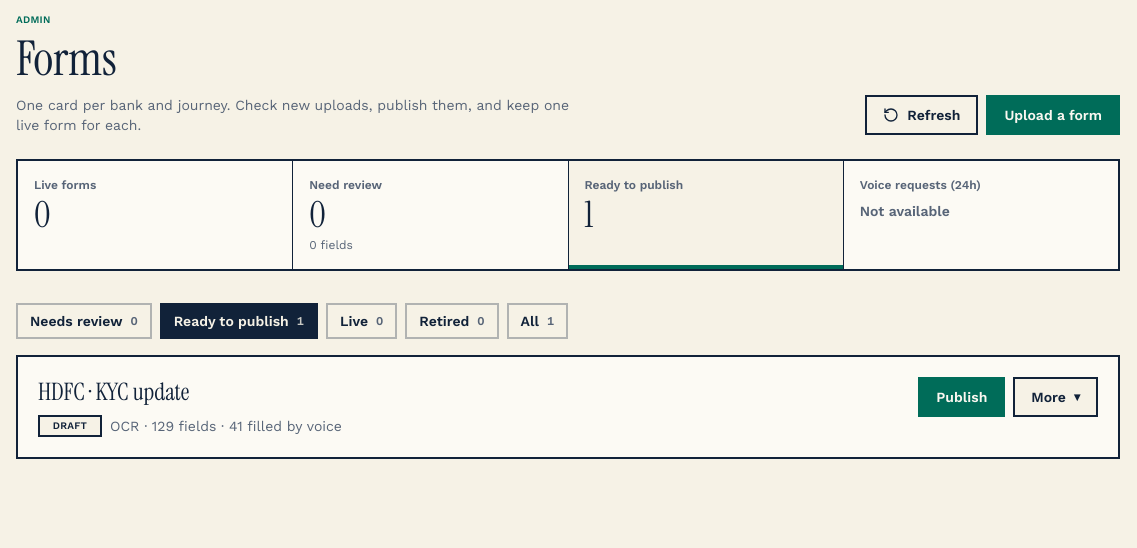
Test: ConsolePage › publishes a draft with no live form straight away
The width and height of the screenshot is (1137, 548).
Click the button "Publish".
click(962, 397)  # box x1=918 y1=377 x2=1005 y2=417
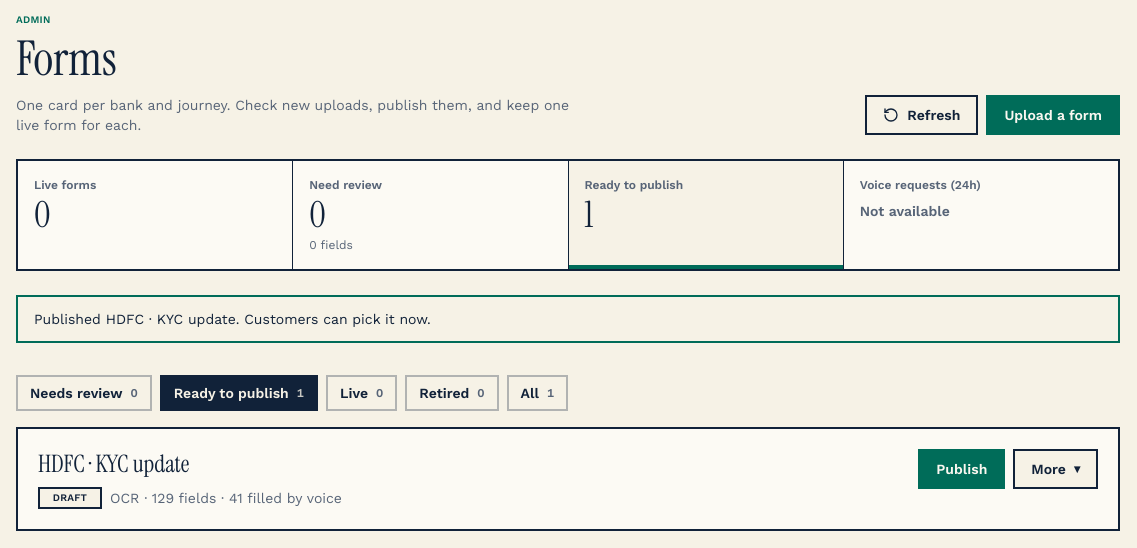
Expected: the text "Published HDFC · KYC update. Customers can pick it now." is shown, x1=16 y1=295 x2=1120 y2=343
